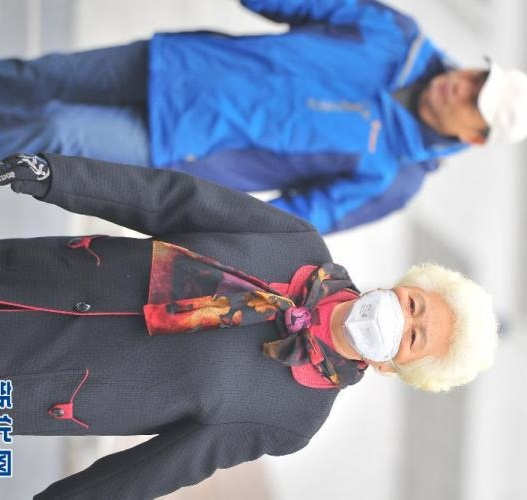person: (4, 150, 500, 500), (1, 1, 526, 241)
